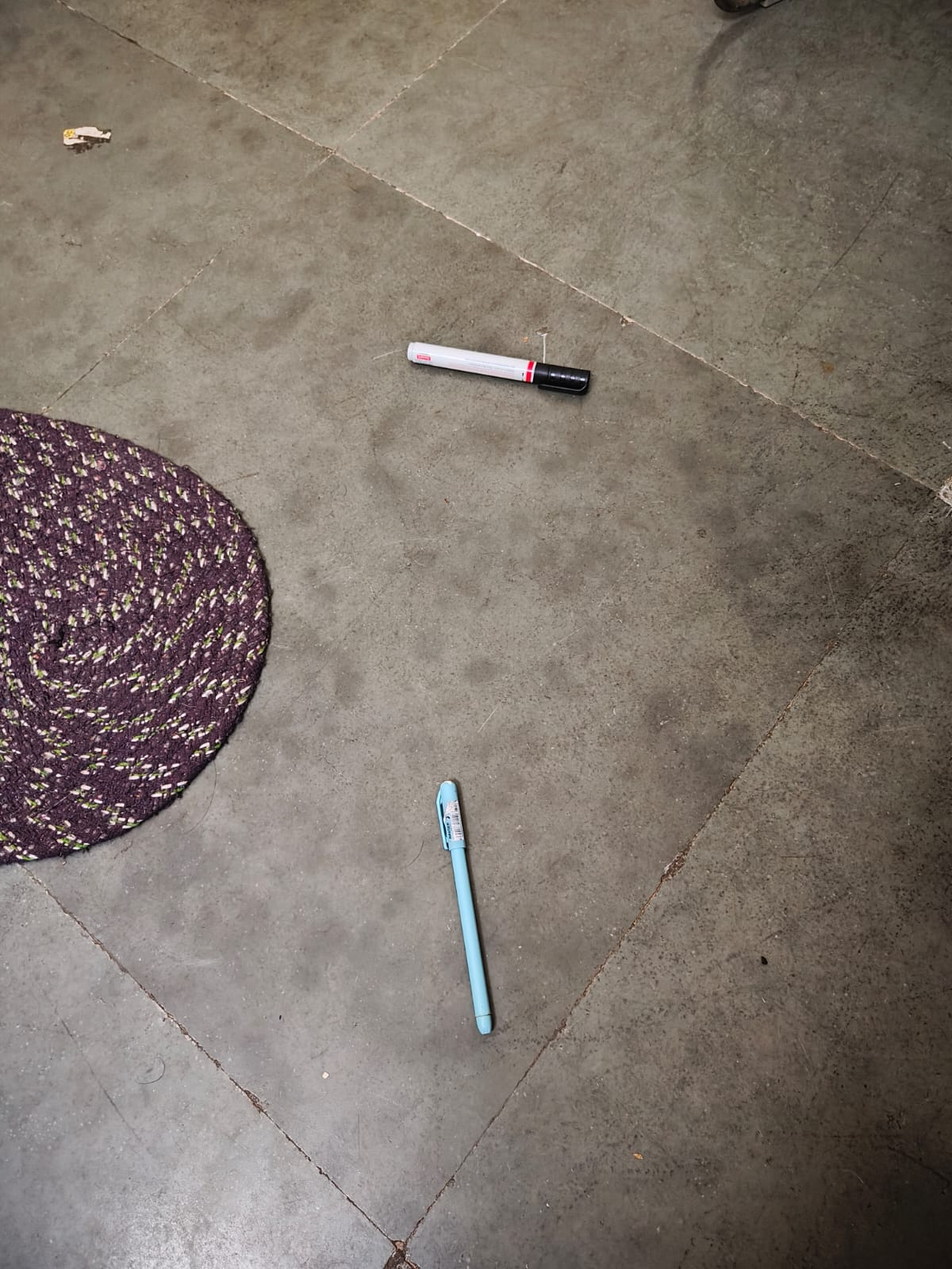case: (403, 313, 596, 428)
pen: (402, 755, 539, 1044)
